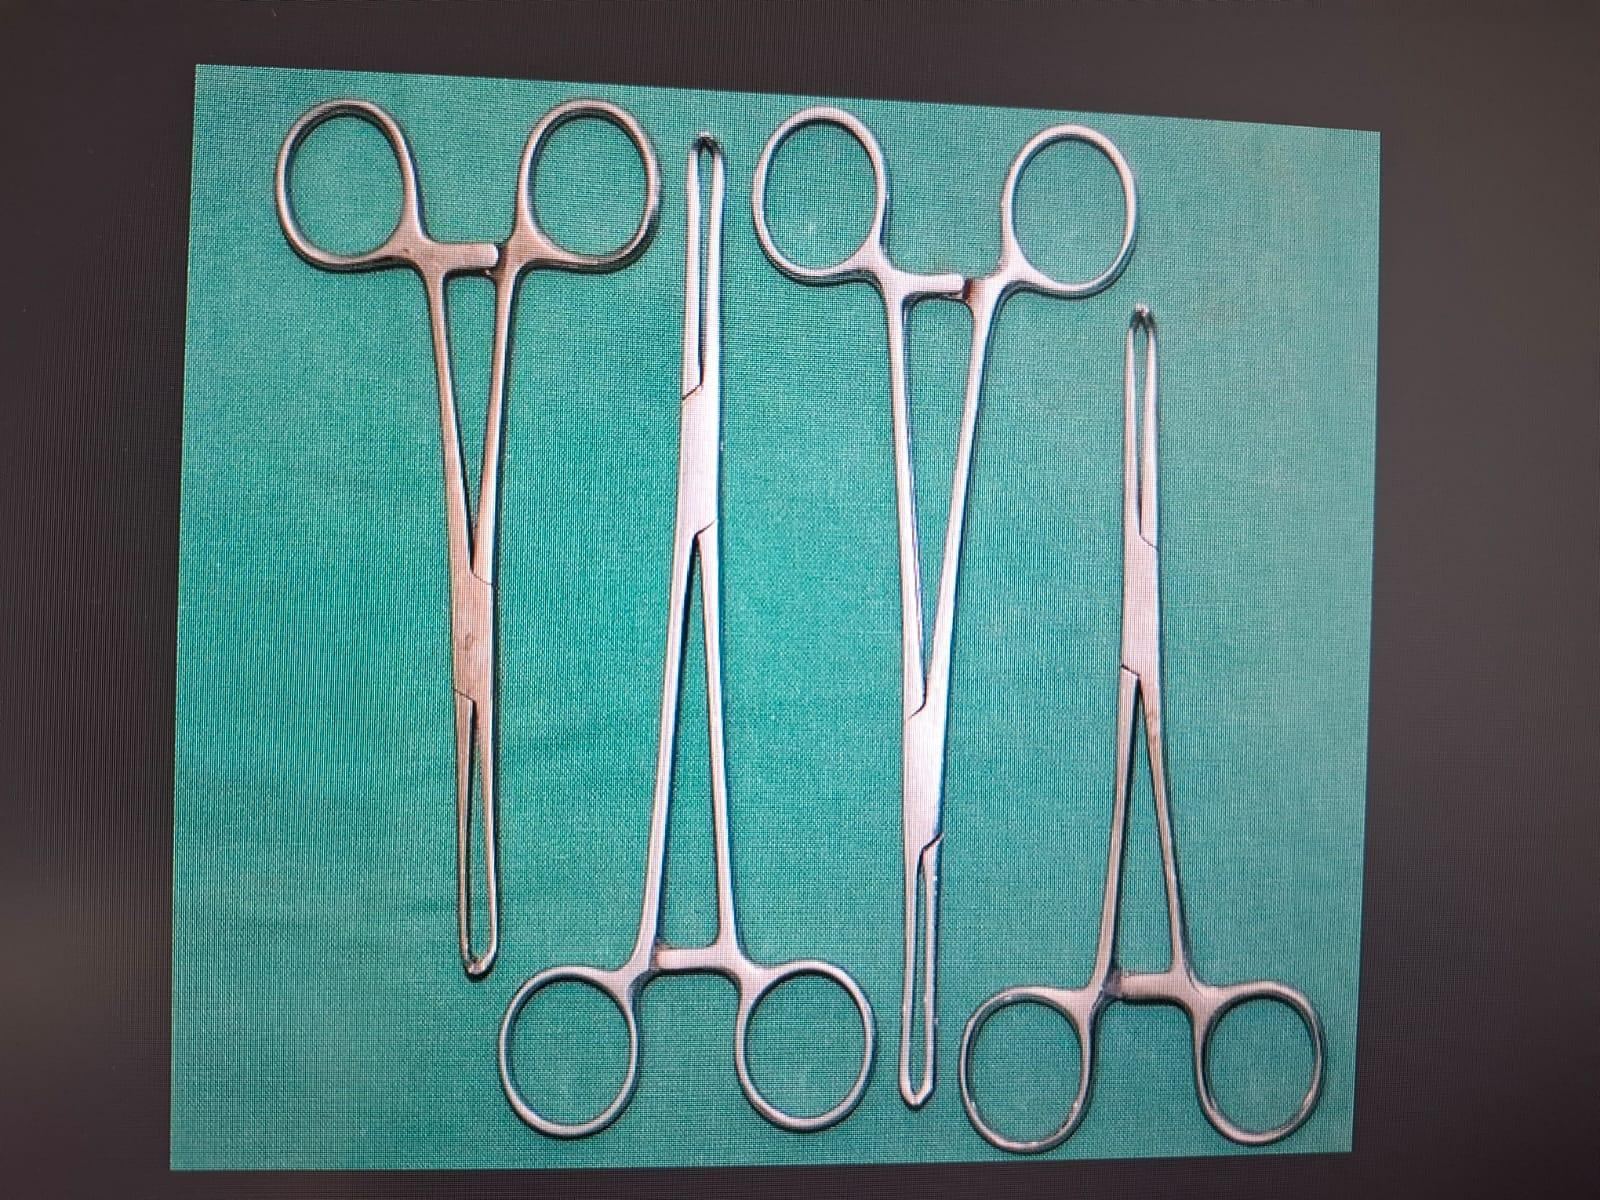Allis Forceps: (488, 136, 896, 1162), (750, 95, 1136, 1126), (272, 86, 674, 978), (944, 296, 1344, 1156)
